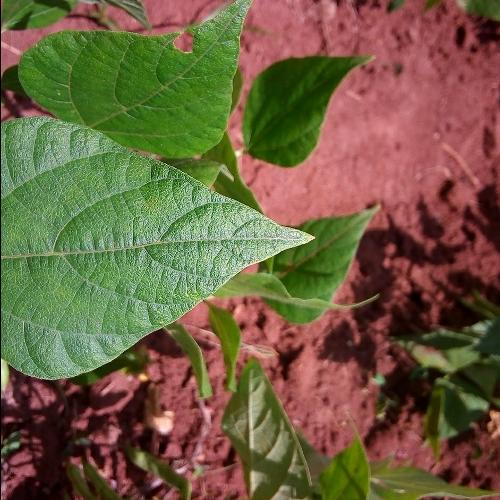hawar: (156, 24, 197, 61)
mozaik: (0, 182, 172, 308)
